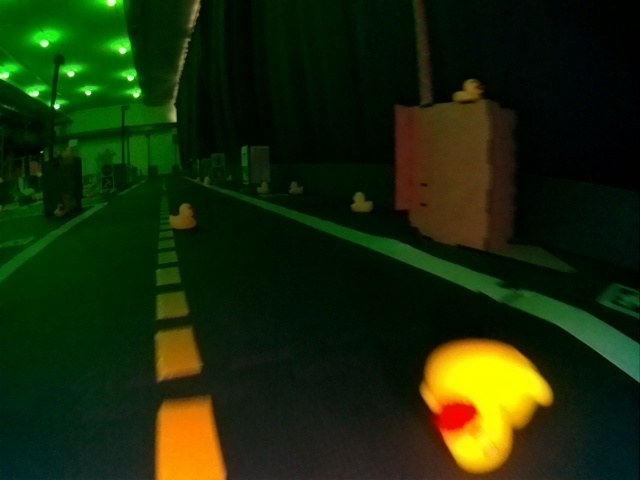Duckie: (421, 343, 552, 472), (171, 204, 196, 229), (454, 78, 482, 99), (351, 192, 371, 212), (257, 183, 268, 192), (290, 181, 300, 190), (55, 204, 64, 212)
QR code: (598, 283, 635, 317)
